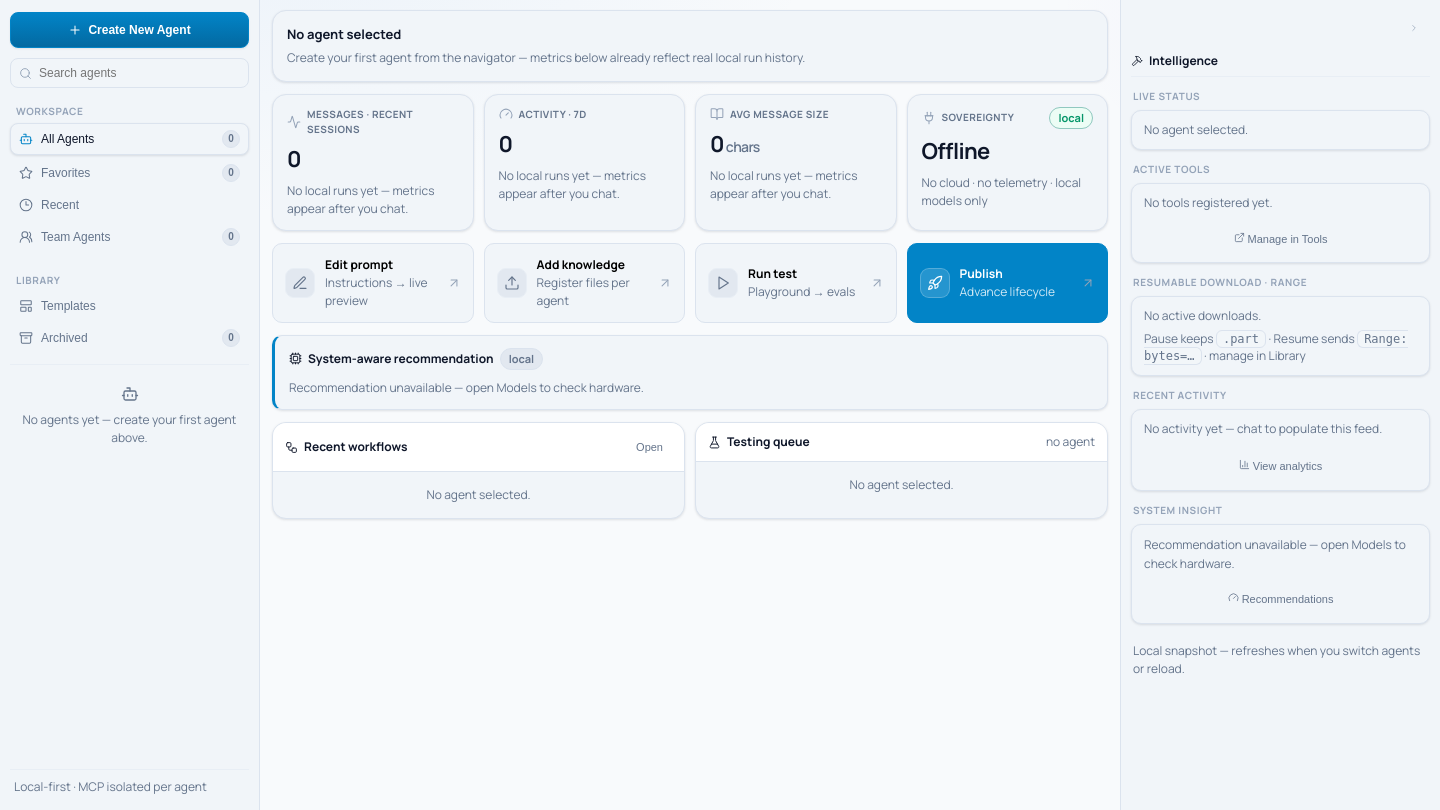
Scenario: Agent Studio — greenfield command center › exposes all lifecycle workspaces in the workspace bar
Click the button "Create New Agent" at (130, 30), box [10,12,249,48]
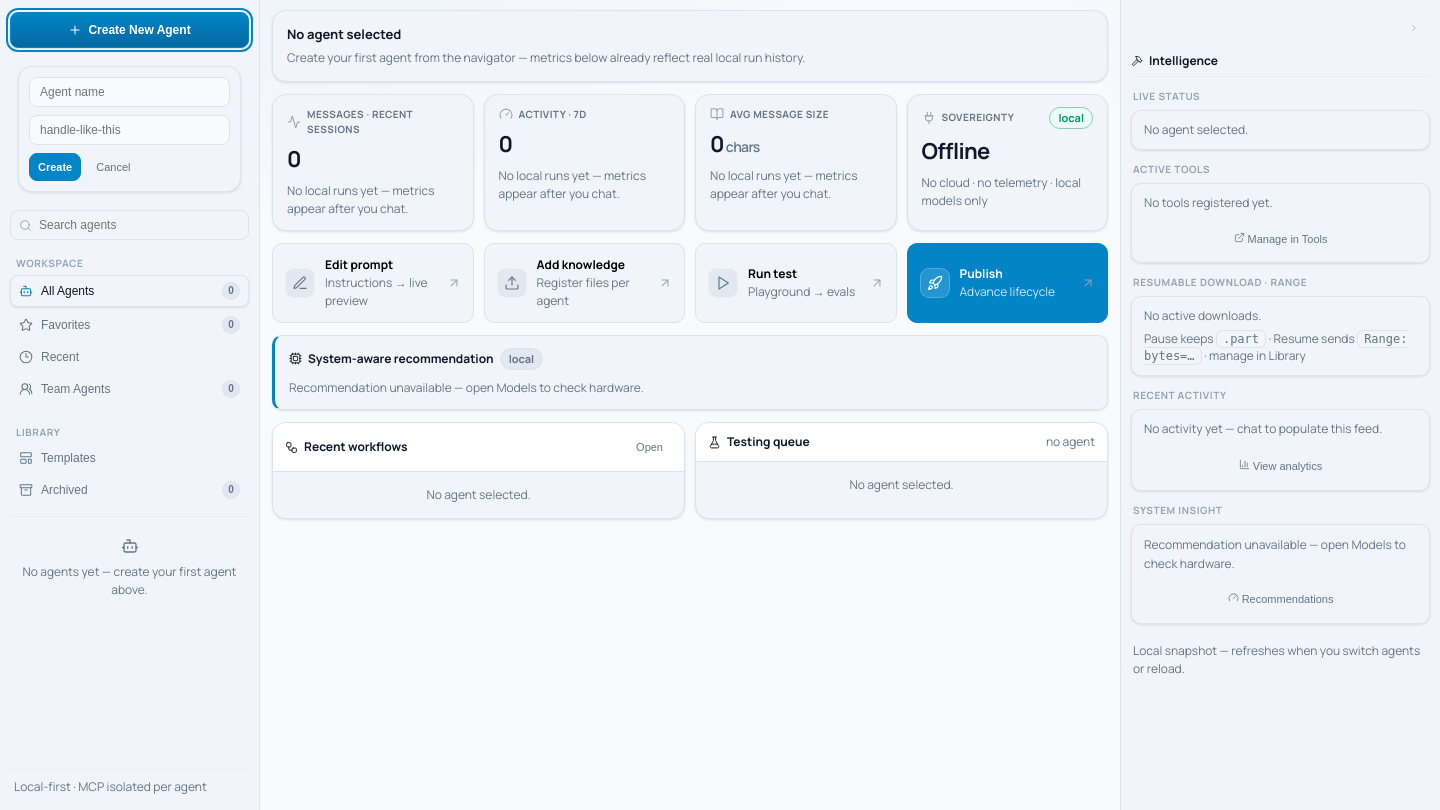
Type "Test Agent" into the field named "New agent name" at (130, 92), box [29,77,230,107]
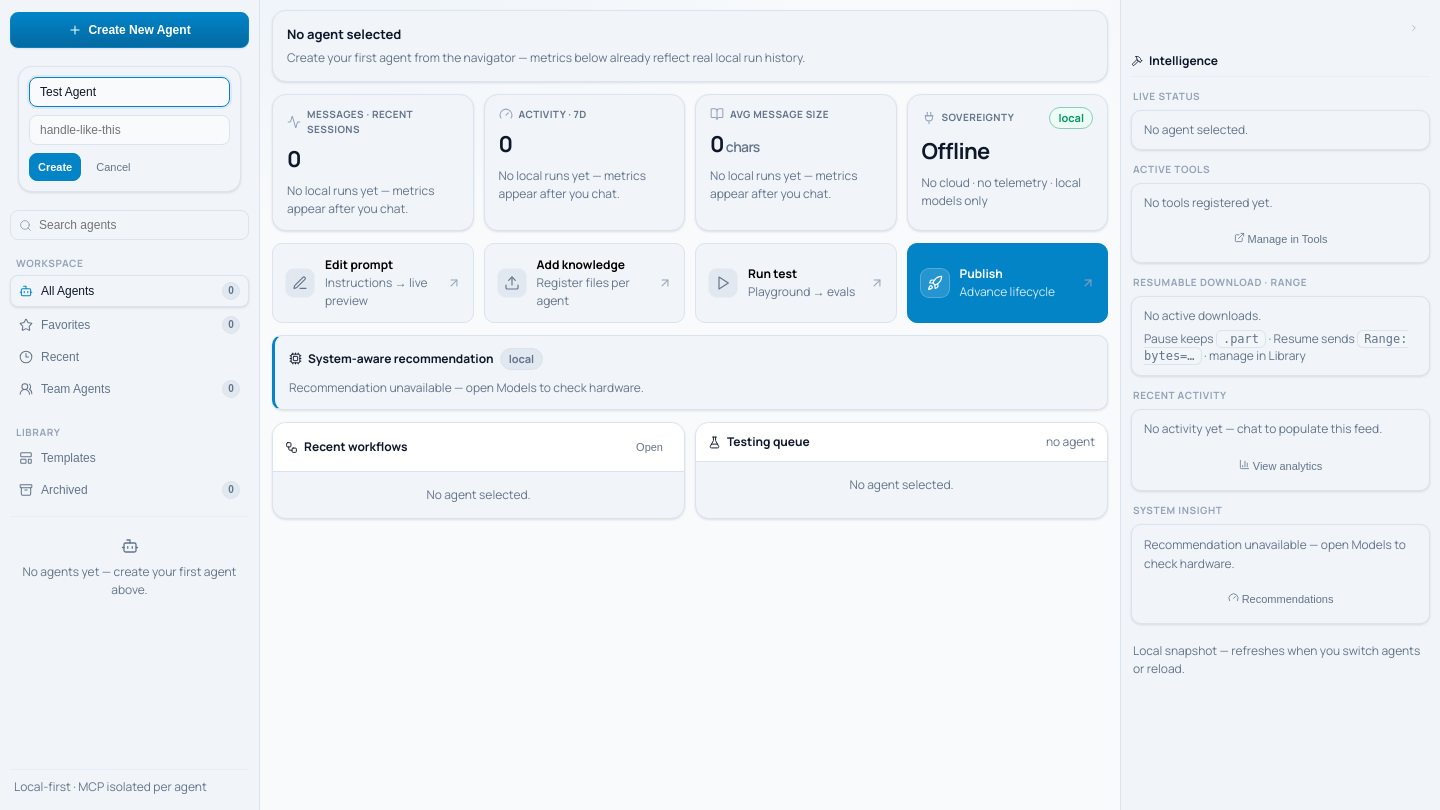
Type "test-agent" into the field named "New agent handle" at (130, 130), box [29,115,230,145]
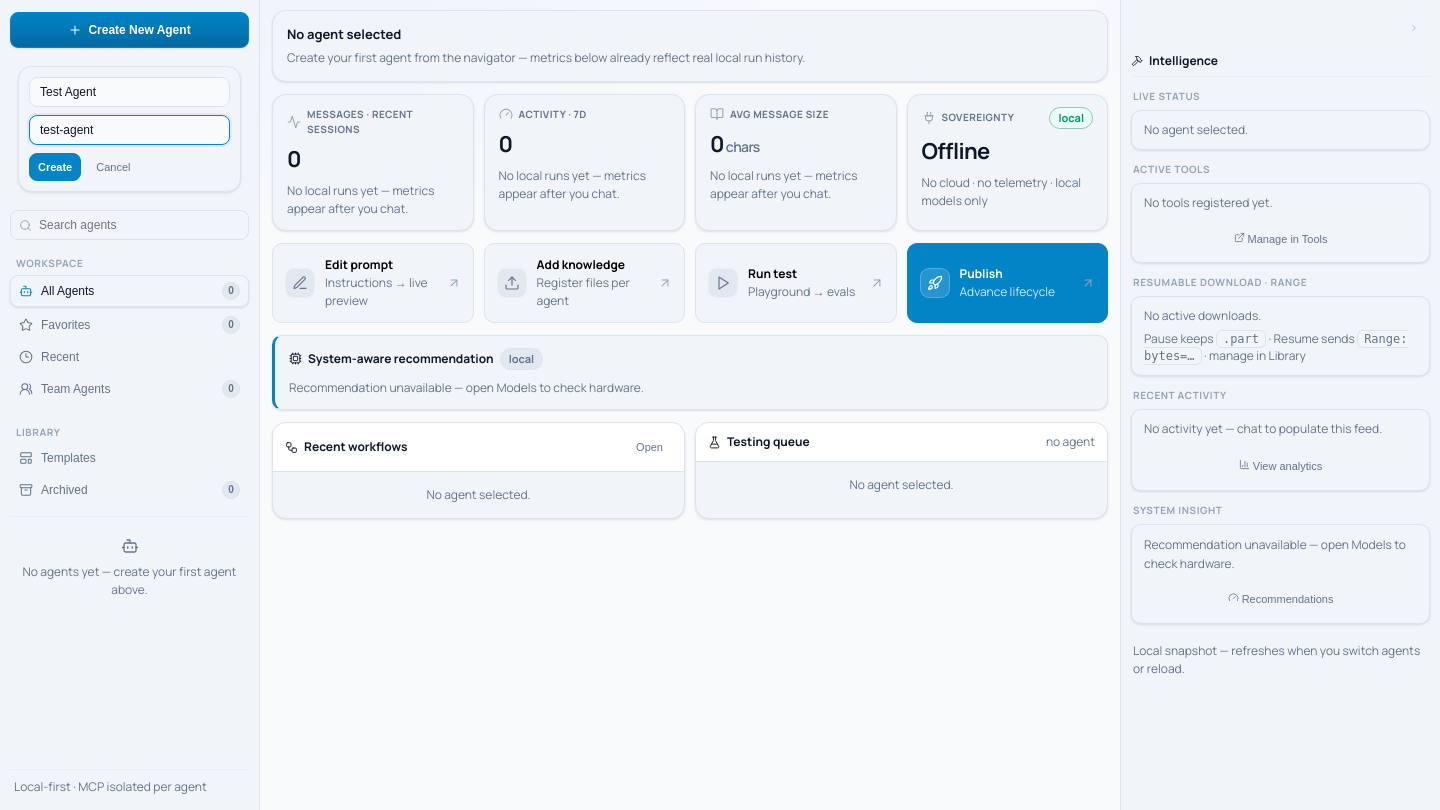
Click the button "Create" at (55, 167), box [29,153,81,181]
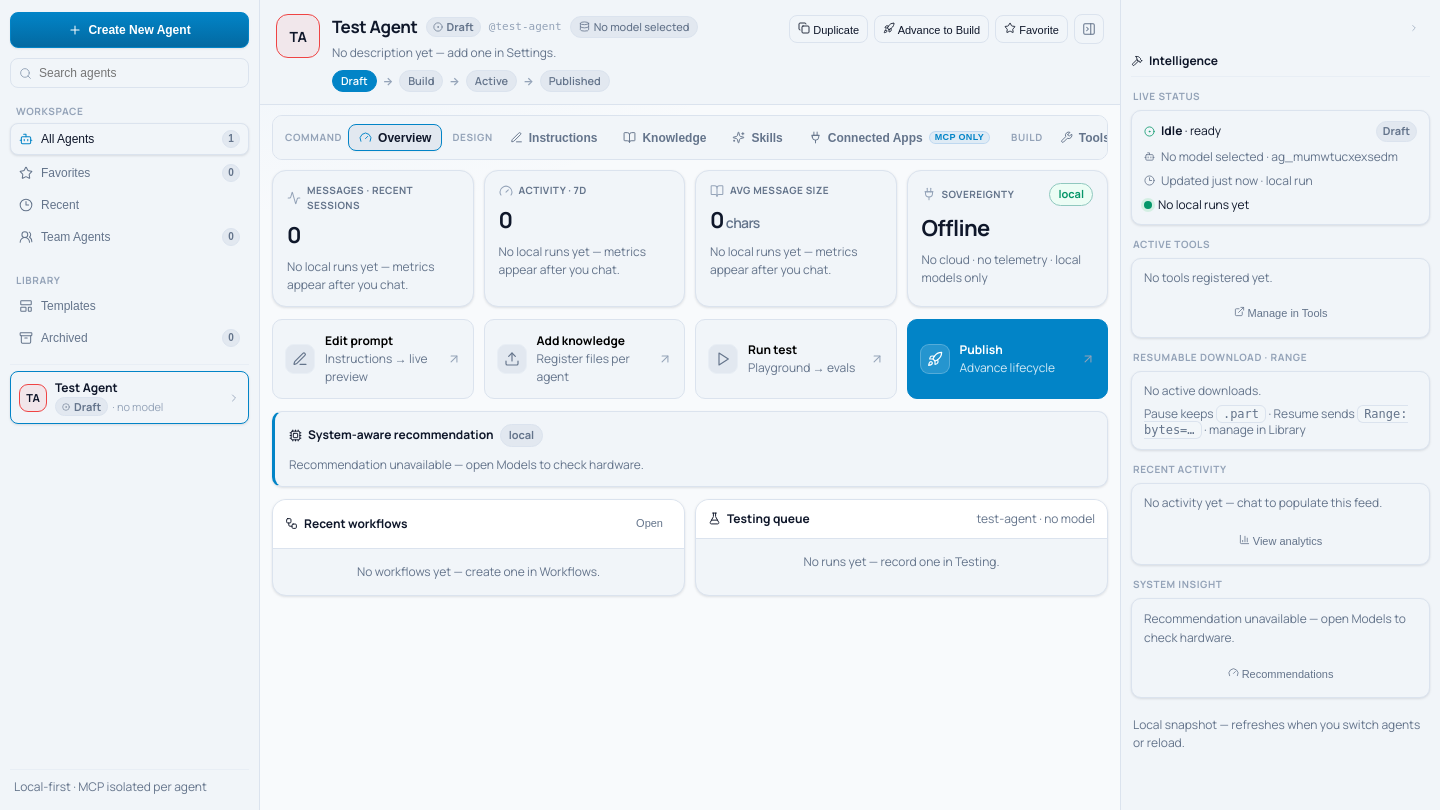
Expected: the tab "Overview" is shown, [348,124,442,151]
Expected: the tab "Instructions" is shown, [499,124,608,151]
Expected: the tab "Knowledge" is shown, [612,124,717,151]
